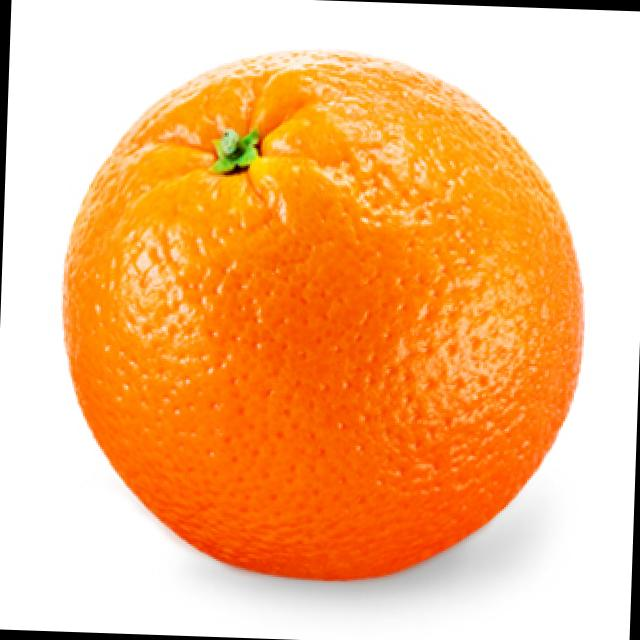orange: (41, 45, 607, 598)
